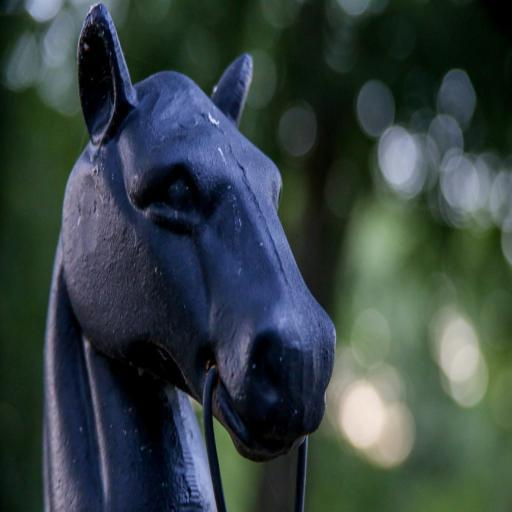horse: (41, 0, 337, 512)
